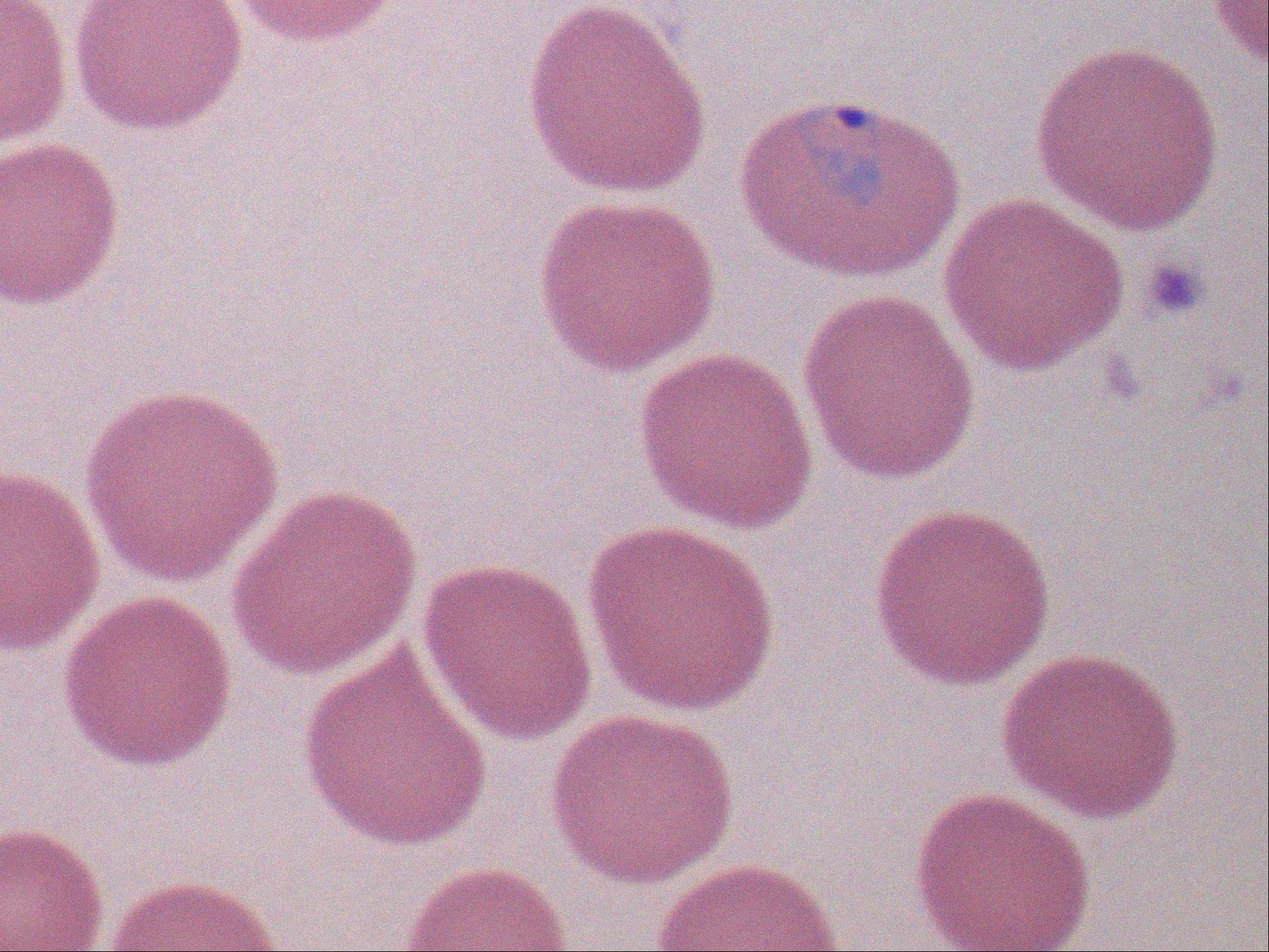Infected: (313, 678, 525, 849)
Uninfected: (787, 111, 964, 300), (997, 375, 1179, 554), (500, 242, 677, 421), (857, 282, 1036, 454), (56, 723, 230, 898), (291, 481, 467, 652), (568, 764, 737, 939), (223, 268, 393, 437), (541, 69, 714, 235), (680, 215, 849, 384), (152, 585, 325, 749), (461, 429, 627, 598), (95, 135, 264, 294), (1042, 188, 1204, 351), (558, 585, 724, 743), (186, 4, 353, 155), (1032, 828, 1191, 949), (1157, 651, 1269, 803)
